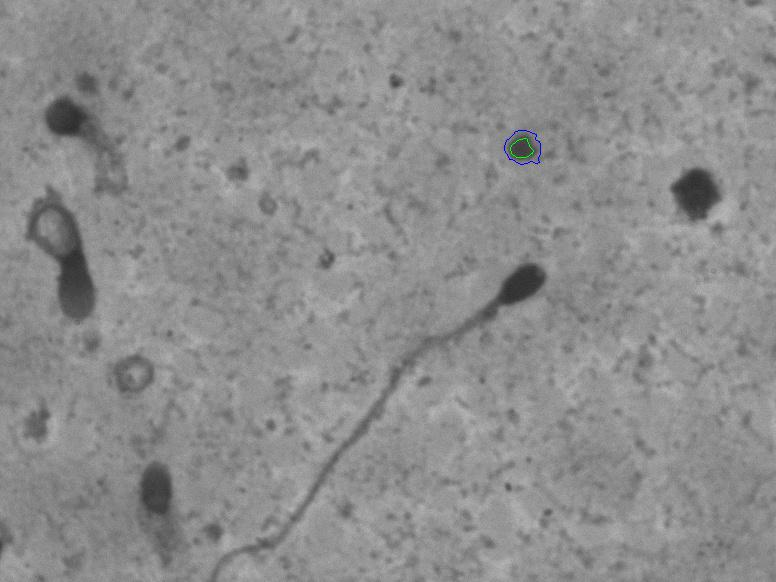Abnormal: (207, 250, 565, 577)
